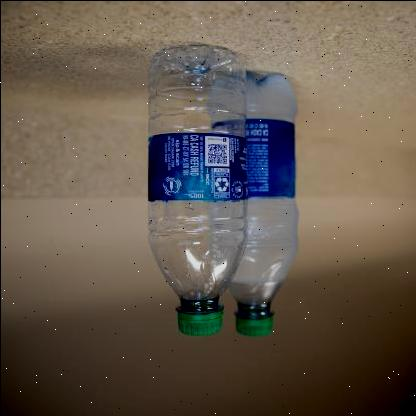Plastic Bottle: (147, 44, 244, 335), (228, 72, 296, 336)
